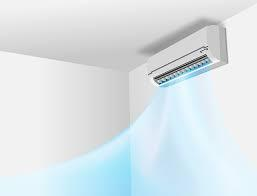air conditioner: (147, 24, 227, 89)
